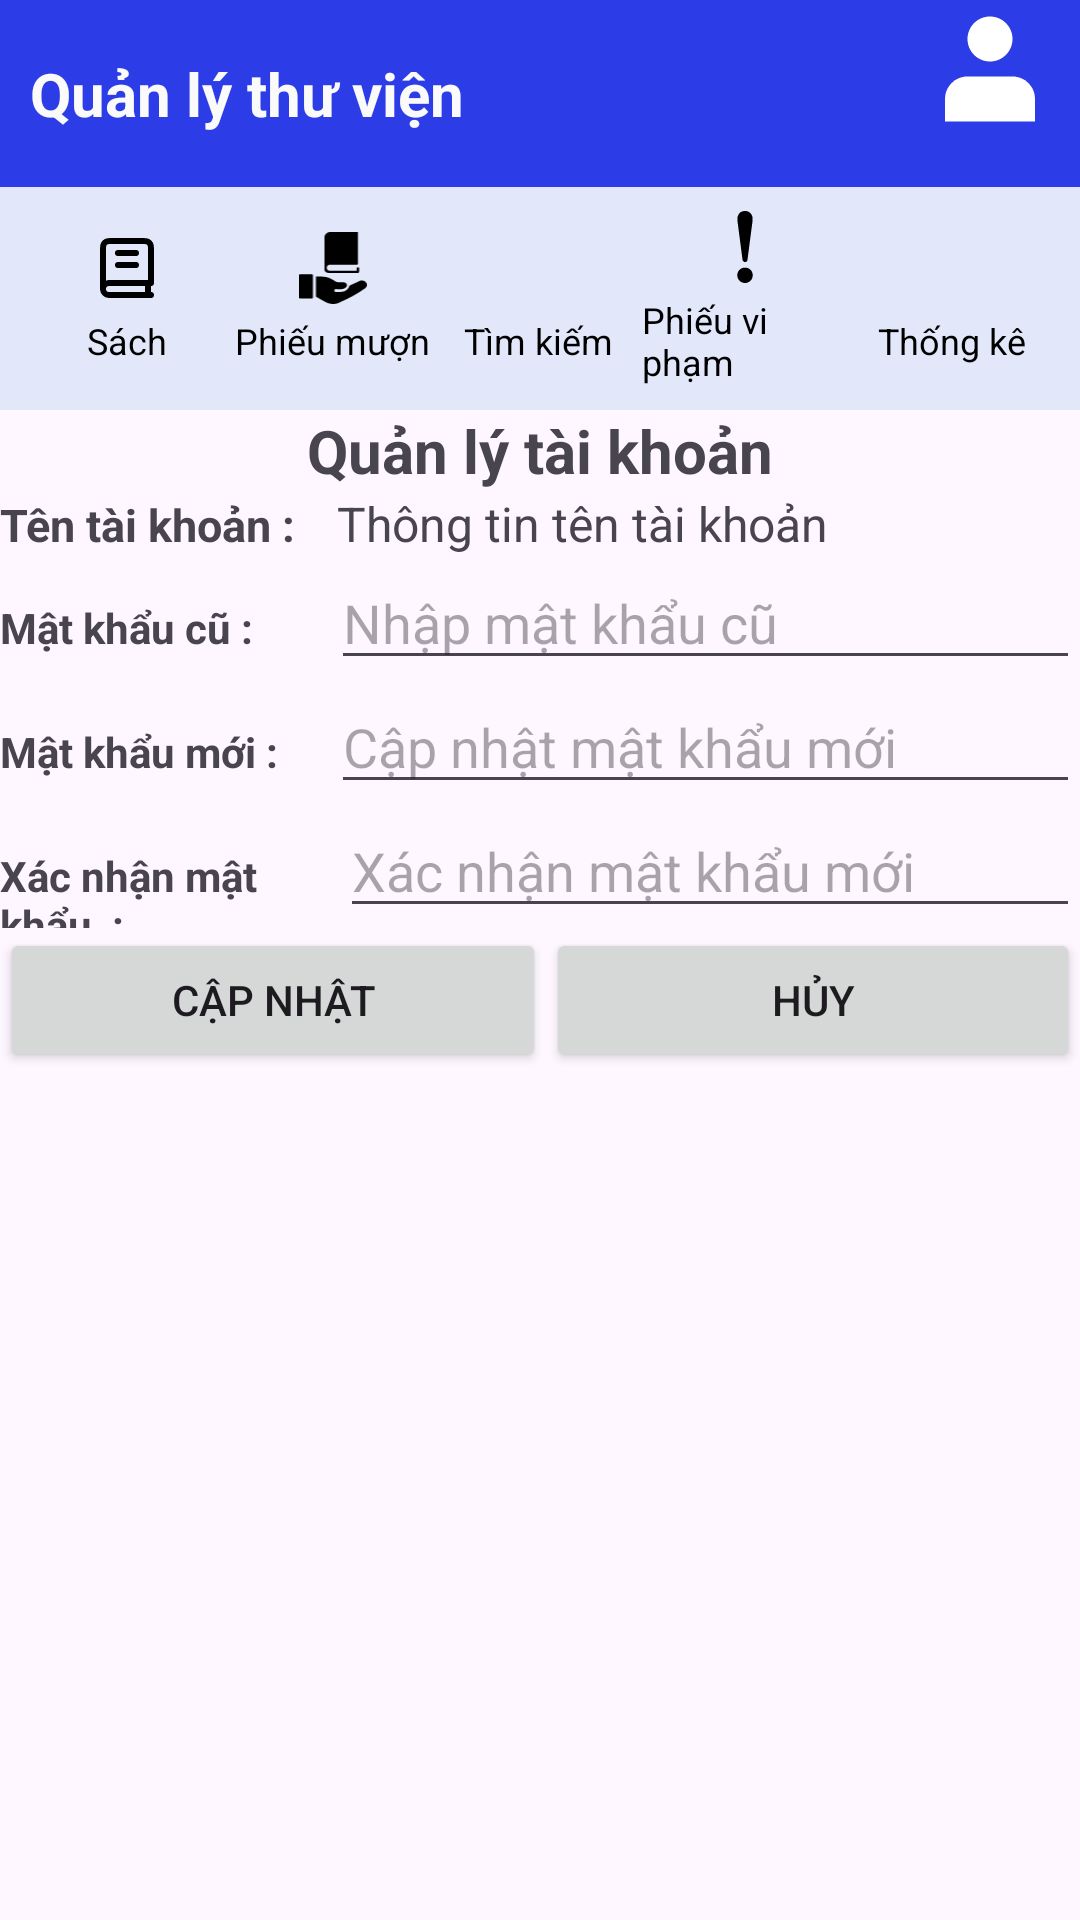

Named icons in this screenshot (1080px x 1920px) and their centers, (x=x, y=y):
Admin1: (x=990, y=69)
